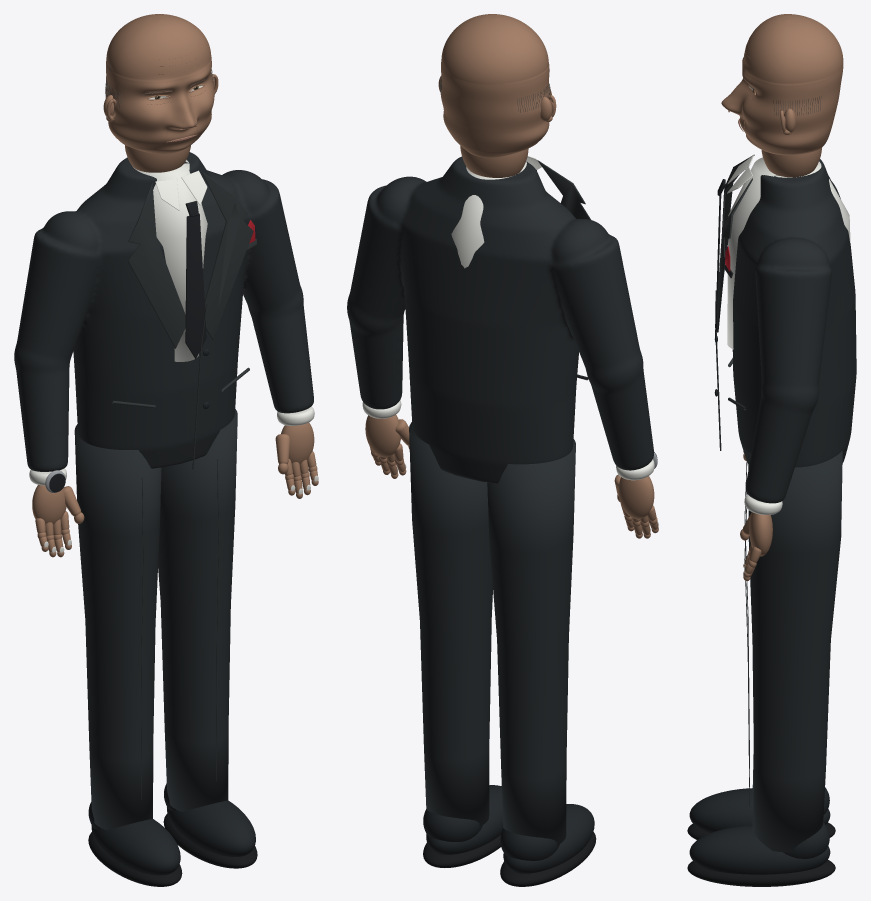
Rendered from kevin.glb.
The picture shows the model from 3 angles, left to right: view 1: azimuth 30°, elevation 25°; view 2: azimuth 150°, elevation 25°; view 3: azimuth 270°, elevation 25°; orthographic projection. The views are drawn at different scales.
Parts seen in each view (by area): view 1: Wool | midnight charcoal, Skin | warm natural satin, Wool | lapel satin, Leather | black polished, Cotton | warm white, Silk | black, Sole | charcoal; view 2: Wool | midnight charcoal, Skin | warm natural satin, Leather | black polished, Cotton | warm white, Sole | charcoal, Wool | lapel satin; view 3: Wool | midnight charcoal, Skin | warm natural satin, Leather | black polished, Cotton | warm white, Wool | lapel satin, Sole | charcoal, Silk | black.
Boxes of the visible parts, x1,y1,x2,y2 form: Wool | midnight charcoal: (14,152,313,830); Skin | warm natural satin: (32,14,318,557); Wool | lapel satin: (112,171,256,799); Leather | black polished: (88,349,255,875); Cotton | warm white: (29,160,318,552); Silk | black: (49,201,206,492); Sole | charcoal: (88,813,257,886); Wool | midnight charcoal: (347,156,653,845); Skin | warm natural satin: (365,14,658,538); Leather | black polished: (423,785,594,873); Cotton | warm white: (362,156,658,531); Sole | charcoal: (423,832,596,886); Wool | lapel satin: (537,160,590,380); Wool | midnight charcoal: (732,159,856,852); Skin | warm natural satin: (721,14,843,581); Leather | black polished: (689,335,830,874); Cotton | warm white: (727,155,850,572); Wool | lapel satin: (715,154,754,805); Sole | charcoal: (687,822,835,886); Silk | black: (715,179,725,336).
Bounding box in the file's own units: 0.6128 × 1.73 × 0.3147.
